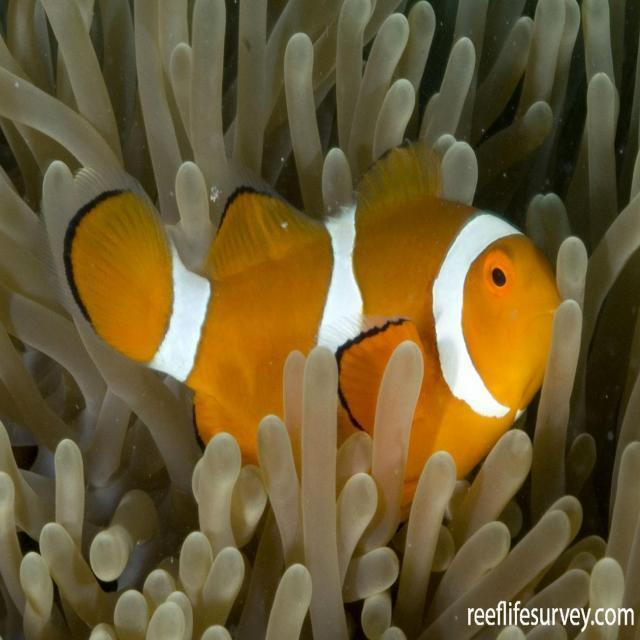ClownFish: (69, 143, 550, 516)
